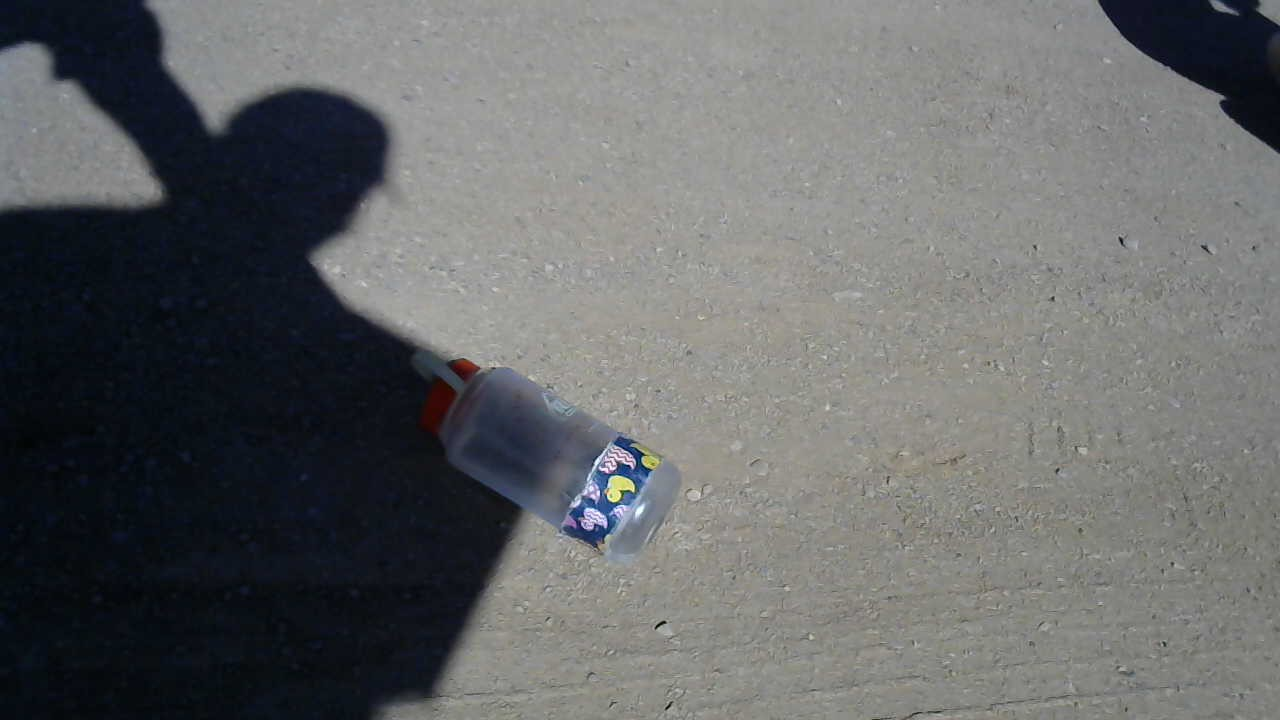bottle: (402, 329, 690, 573)
